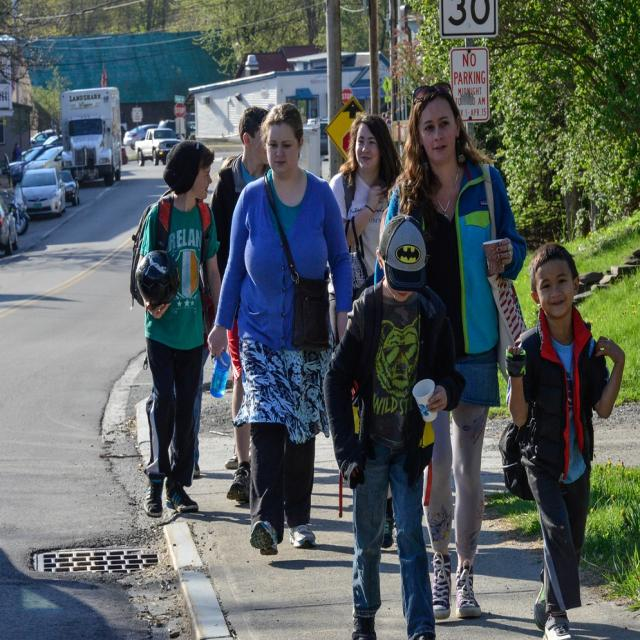body: (372, 79, 530, 625), (320, 215, 458, 639), (504, 246, 628, 639), (269, 466, 638, 585), (132, 137, 222, 520), (210, 103, 280, 507), (210, 107, 272, 504), (326, 112, 405, 352), (450, 598, 637, 640), (132, 504, 267, 534), (191, 377, 208, 479), (222, 436, 243, 474)
